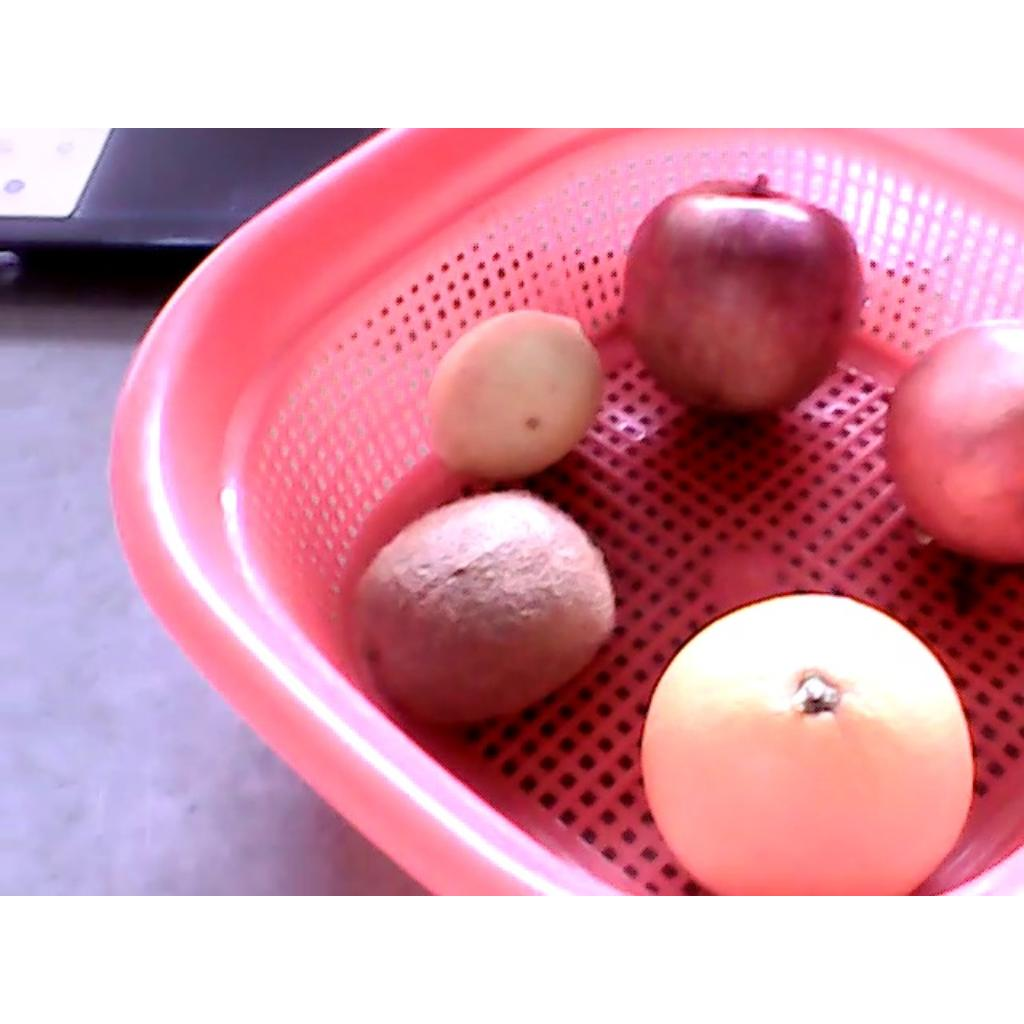apple: (621, 173, 864, 415)
kiwi: (354, 490, 618, 723)
lemon: (425, 309, 603, 481)
orange: (639, 591, 975, 894)
pomegranate: (883, 322, 1022, 565)
